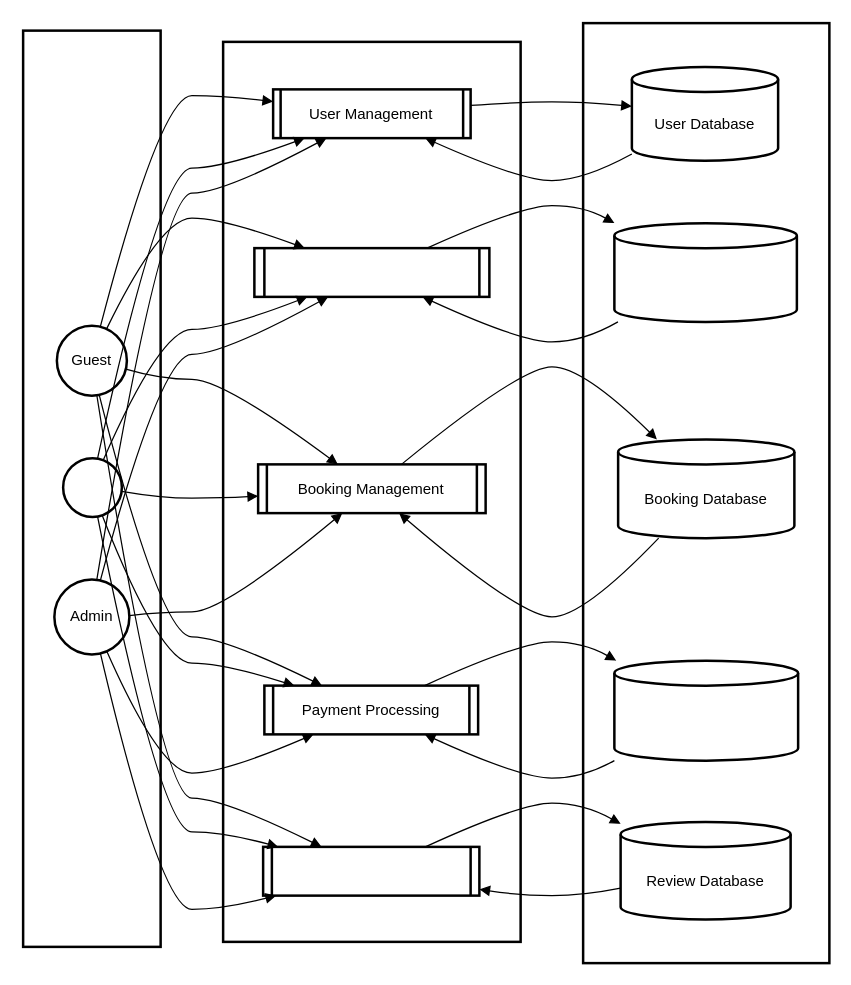
The diagram is 851 pixels wide and 985 high, and some of its shapes have lost their labels. Here are the shapes that lost their labels. From the top down, the centre of each, then its label:
At pixel 371 272: "Property Management".
At pixel 705 271: "Property Database".
At pixel 91 487: "Host".
At pixel 705 710: "Payment Database".
At pixel 370 870: "Review & Messaging".
